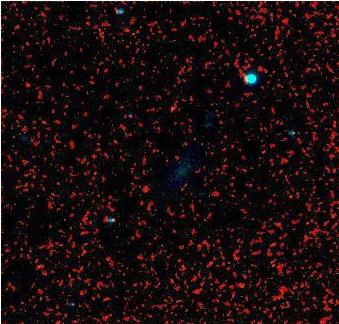star: (157, 91, 187, 121)
